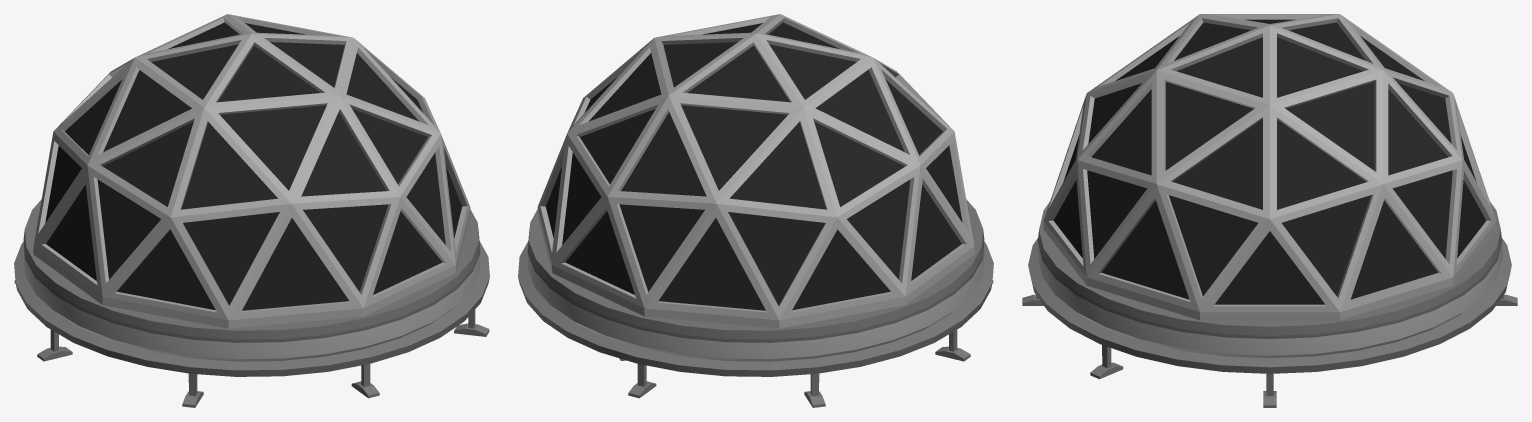
The model's file is geodesic-dome.glb.
3 views of the same model, side by side, from view 1: azimuth 30°, elevation 25°; view 2: azimuth 150°, elevation 25°; view 3: azimuth 270°, elevation 25° (orthographic).
Visible parts, largest first — view 1: GeodesicDome; view 2: GeodesicDome; view 3: GeodesicDome.
Part boxes in pixels (x1,y1,x2,y2): GeodesicDome: [14, 14, 489, 407]; GeodesicDome: [518, 14, 993, 407]; GeodesicDome: [1022, 14, 1517, 407].
Bounding box in the file's own units: 8.53 × 5.28 × 8.53.
1 material, 1 textured.
